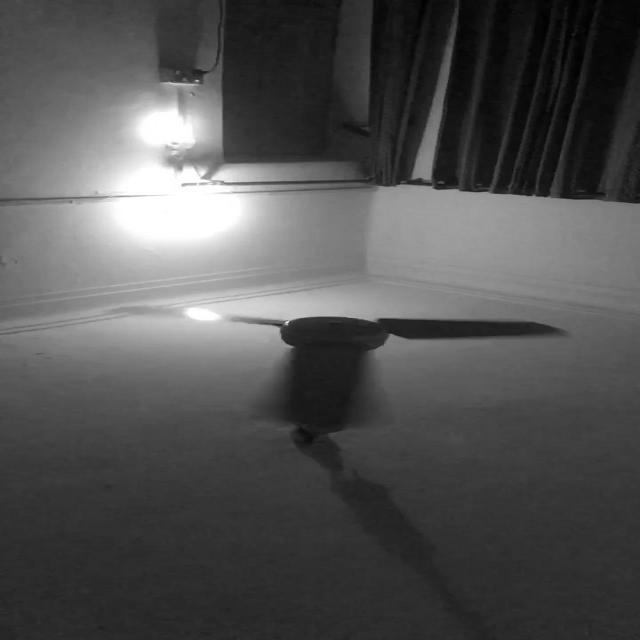fan: (228, 316, 570, 474)
